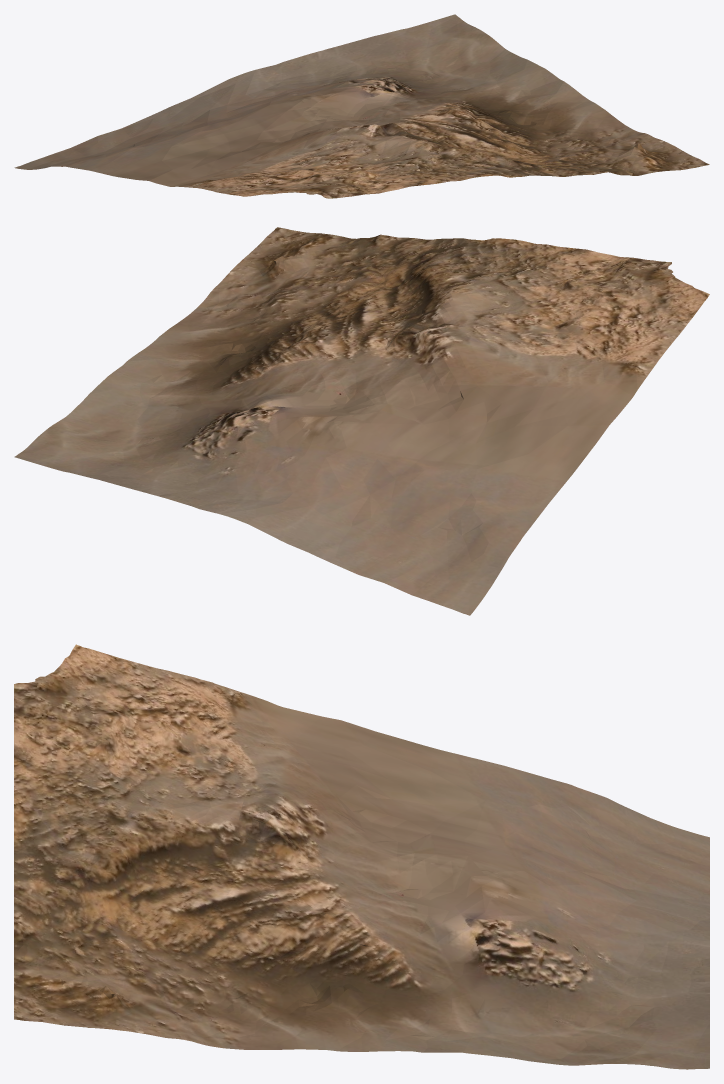
The picture shows the model from 3 angles, top to bottom: view 1: azimuth 30°, elevation 25°; view 2: azimuth 150°, elevation 25°; view 3: azimuth 270°, elevation 25°; orthographic projection. The views are drawn at different scales.
Size of the model in its own units: 1.04 by 0.3194 by 1.04.
Materials: 2 (2 with a texture image).
